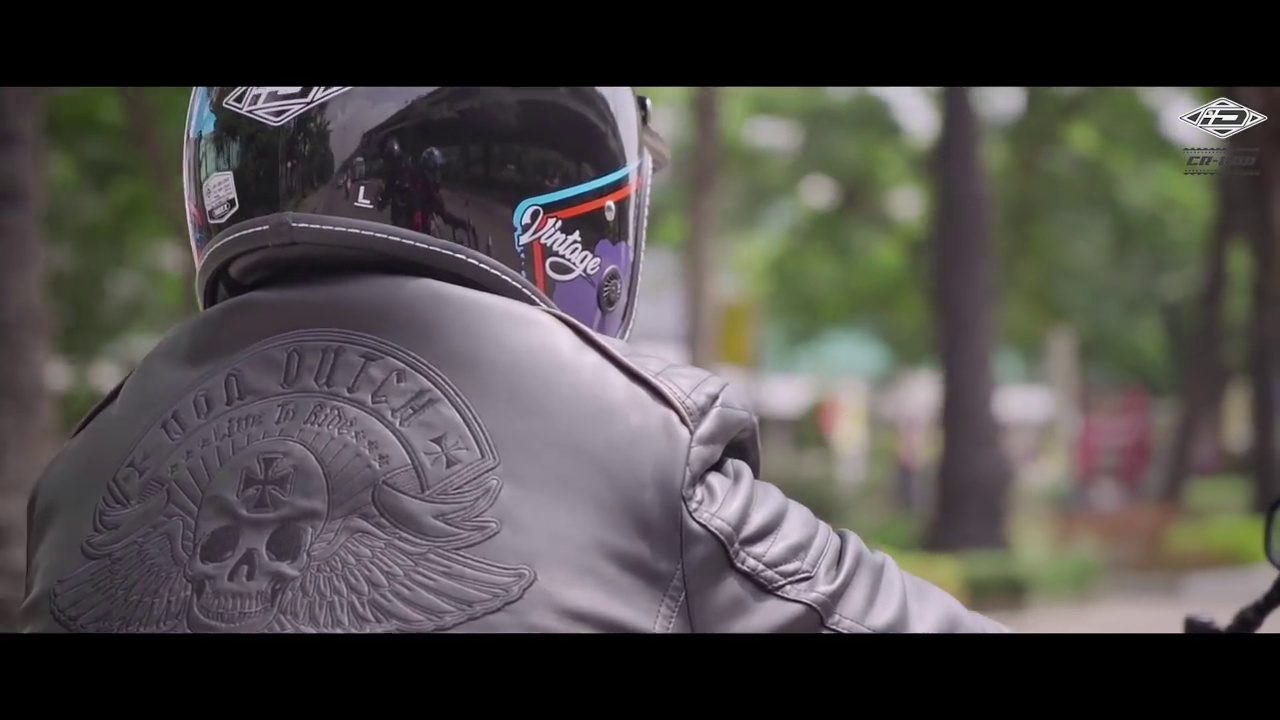helmet: (157, 80, 683, 332)
